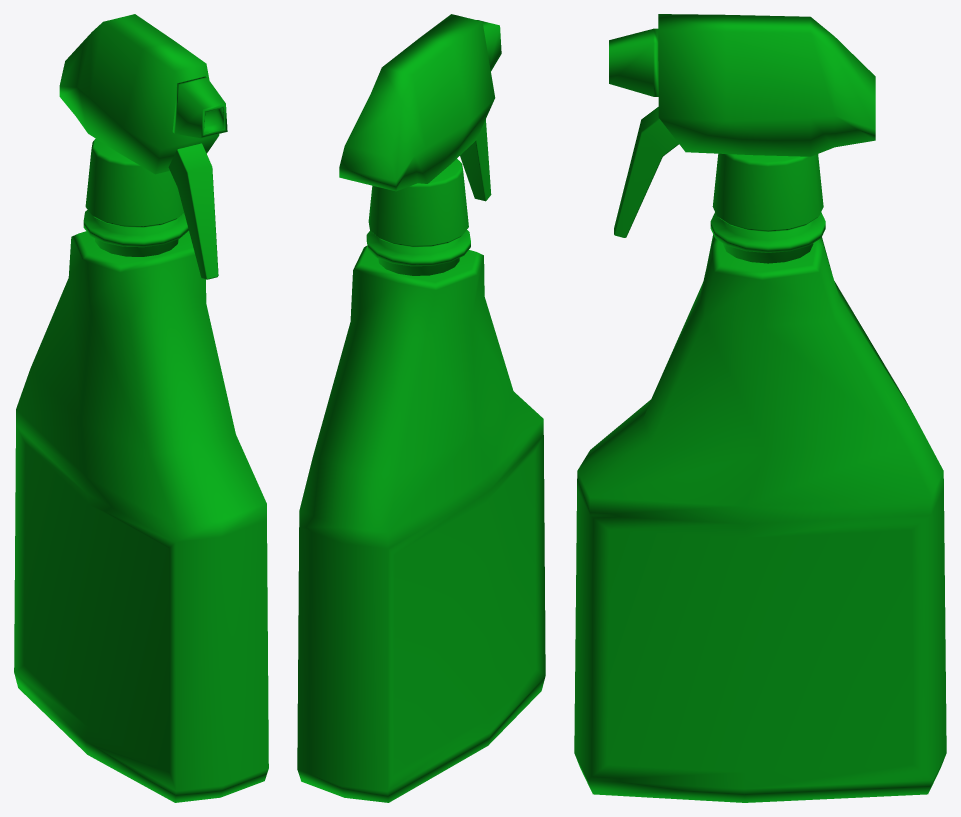
The model's file is Household_Products_05.fbx.
The picture shows the model from 3 angles, left to right: view 1: azimuth 30°, elevation 25°; view 2: azimuth 150°, elevation 25°; view 3: azimuth 270°, elevation 25°; orthographic projection. The views are drawn at different scales.
Visible parts, largest first — view 1: Household_Products_05; view 2: Household_Products_05; view 3: Household_Products_05.
Boxes of the visible parts, left/top/right/bottom form: Household_Products_05: left=14, top=14, right=268, bottom=802; Household_Products_05: left=297, top=14, right=545, bottom=802; Household_Products_05: left=574, top=14, right=946, bottom=802.
Bounding box in the file's own units: 37.79 × 200 × 90.19.
